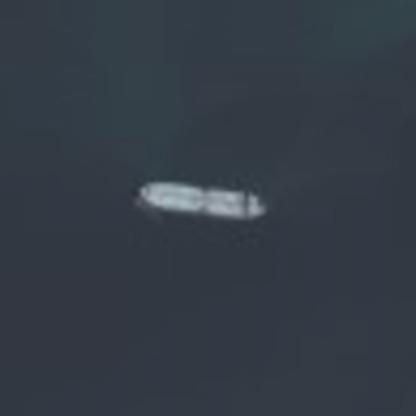ship: (131, 168, 277, 233)
